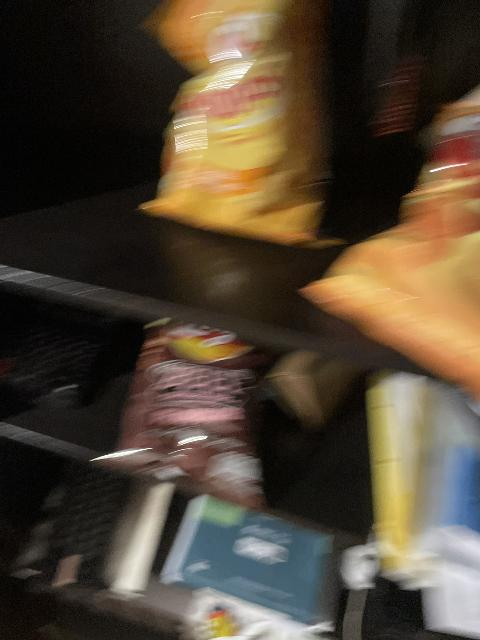Chio Hula Hoops Cheese 70g: (135, 5, 339, 244)
Lays Beef Grilled Ribs 125g: (300, 82, 477, 418), (108, 318, 271, 509)
